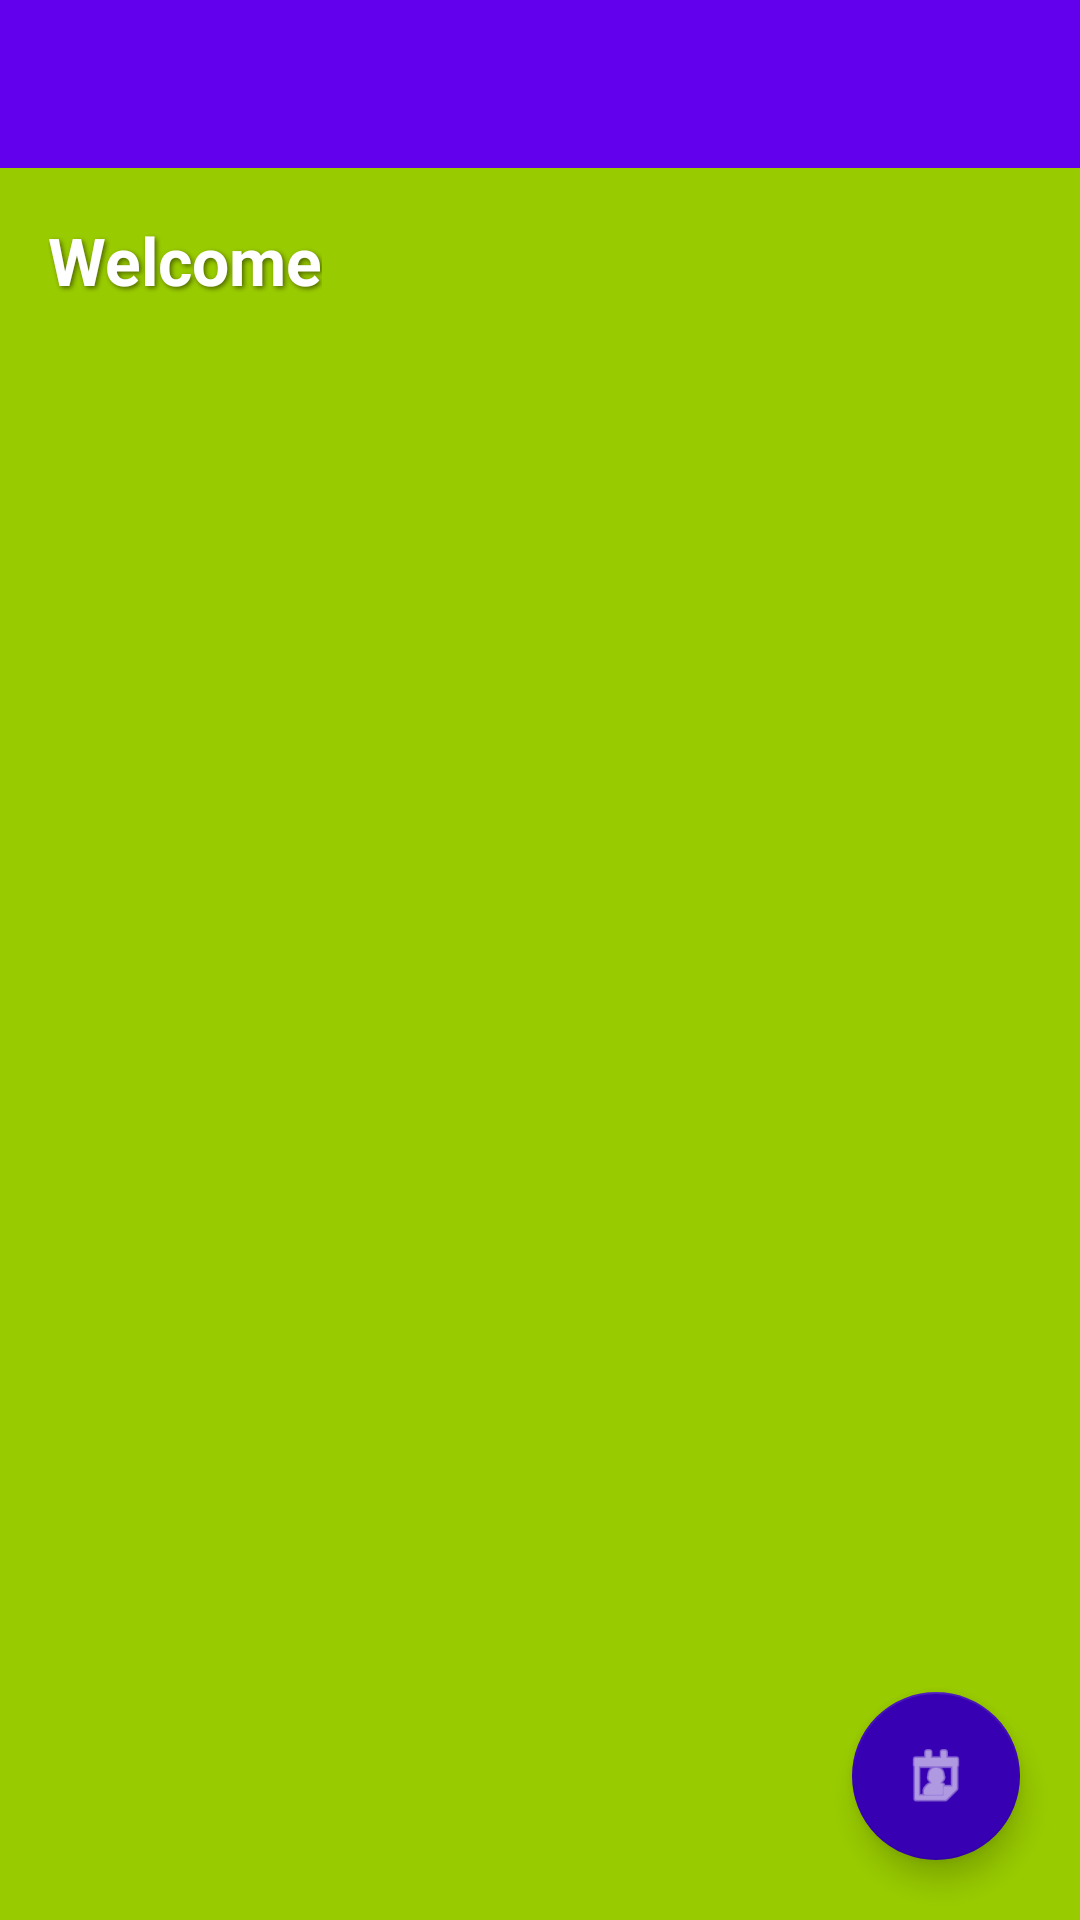

Icons on this 1080px×1920px Android screen, each with the point to tap as point (x, y):
My Bookings: point (936, 1776)
